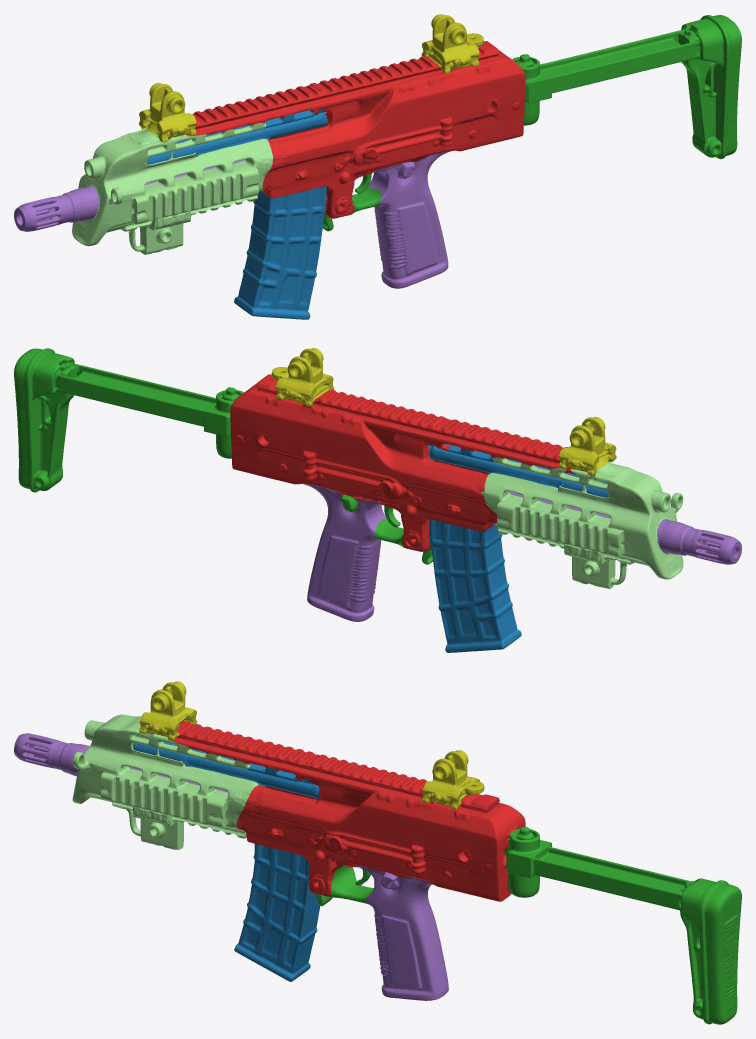
File: folding-stock-ar.glb
3 renders of one model, top to bottom at view 1: azimuth 30°, elevation 25°; view 2: azimuth 150°, elevation 25°; view 3: azimuth 330°, elevation 25°, orthographic.
Visible parts, largest first — view 1: model_part17, model_part16, model_part3, model_part14, model_part12, model_part0, model_part15, model_part2, model_part13, model_part11; view 2: model_part17, model_part16, model_part3, model_part14, model_part12, model_part0, model_part2, model_part15, model_part13, model_part11; view 3: model_part17, model_part16, model_part3, model_part14, model_part12, model_part15, model_part2, model_part13, model_part0, model_part11.
Part boxes in pixels (x1=…): model_part17: x1=180, y1=41, x2=525, y2=218; model_part16: x1=72, y1=123, x2=273, y2=254; model_part3: x1=512, y1=15, x2=741, y2=159; model_part14: x1=234, y1=186, x2=327, y2=319; model_part12: x1=368, y1=151, x2=451, y2=288; model_part0: x1=14, y1=186, x2=98, y2=231; model_part15: x1=147, y1=109, x2=328, y2=164; model_part2: x1=421, y1=14, x2=483, y2=73; model_part13: x1=139, y1=83, x2=196, y2=142; model_part11: x1=322, y1=174, x2=381, y2=231; model_part17: x1=230, y1=374, x2=576, y2=551; model_part16: x1=481, y1=457, x2=683, y2=589; model_part3: x1=14, y1=348, x2=243, y2=492; model_part14: x1=428, y1=519, x2=521, y2=652; model_part12: x1=305, y1=484, x2=387, y2=621; model_part0: x1=657, y1=519, x2=741, y2=564; model_part2: x1=271, y1=348, x2=334, y2=406; model_part15: x1=427, y1=443, x2=608, y2=497; model_part13: x1=558, y1=417, x2=616, y2=476; model_part11: x1=373, y1=505, x2=432, y2=564; model_part17: x1=173, y1=721, x2=525, y2=901; model_part16: x1=72, y1=714, x2=258, y2=849; model_part3: x1=503, y1=826, x2=741, y2=1024; model_part14: x1=234, y1=844, x2=320, y2=981; model_part12: x1=354, y1=865, x2=448, y2=1000; model_part15: x1=133, y1=741, x2=319, y2=798; model_part2: x1=421, y1=750, x2=484, y2=809; model_part13: x1=139, y1=681, x2=197, y2=740; model_part0: x1=14, y1=733, x2=89, y2=776; model_part11: x1=316, y1=865, x2=373, y2=906.
Bounding box in the file's own units: 0.12 × 0.0413 × 0.0122.
